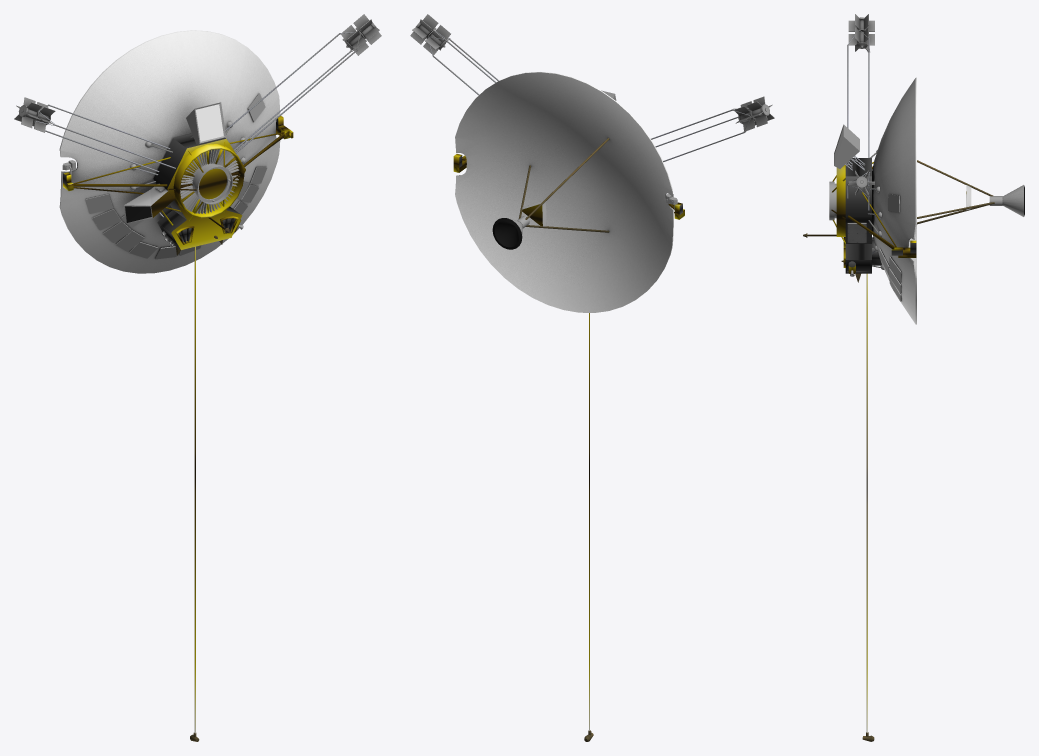
Rendered from pioneer.obj.
3 renders of one model, left to right at view 1: azimuth 30°, elevation 25°; view 2: azimuth 150°, elevation 25°; view 3: azimuth 270°, elevation 25°, orthographic. The views are drawn at different scales.
Visible parts, largest first — view 1: AO_dish, Foil_gold, Silver, Norm_silver, Tex_02, Foil_silver, AO_rtg, Foil_trans; view 2: AO_dish, AO_rtg, Tex_02, Foil_gold, Tex_black; view 3: AO_dish, Foil_silver, Foil_gold, Tex_02, Silver, AO_rtg, Norm_silver, Tex_01.
Boxes of the visible parts, left/top/right/bottom form: AO_dish: left=59, top=30, right=280, bottom=273; Foil_gold: left=63, top=116, right=293, bottom=733; Silver: left=62, top=93, right=266, bottom=258; Norm_silver: left=85, top=94, right=267, bottom=259; Tex_02: left=34, top=32, right=360, bottom=741; Foil_silver: left=63, top=118, right=278, bottom=249; AO_rtg: left=14, top=14, right=381, bottom=132; Foil_trans: left=196, top=104, right=223, bottom=141; AO_dish: left=455, top=72, right=673, bottom=312; AO_rtg: left=410, top=14, right=774, bottom=131; Tex_02: left=428, top=30, right=755, bottom=741; Foil_gold: left=453, top=154, right=684, bottom=730; Tex_black: left=492, top=218, right=522, bottom=249; AO_dish: left=872, top=77, right=1023, bottom=324; Foil_silver: left=845, top=158, right=916, bottom=273; Foil_gold: left=807, top=162, right=966, bottom=732; Tex_02: left=803, top=30, right=994, bottom=741; Silver: left=829, top=124, right=1002, bottom=301; AO_rtg: left=848, top=14, right=874, bottom=195; Norm_silver: left=879, top=194, right=900, bottom=301; Tex_01: left=847, top=223, right=866, bottom=242.
Size of the model in its own units: 4.52 by 8.25 by 2.54.
Materials: 11 (8 with a texture image).
